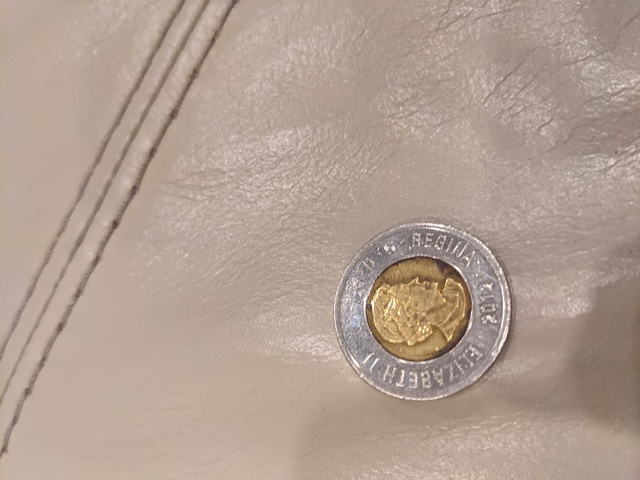twonie: (345, 209, 515, 399)
